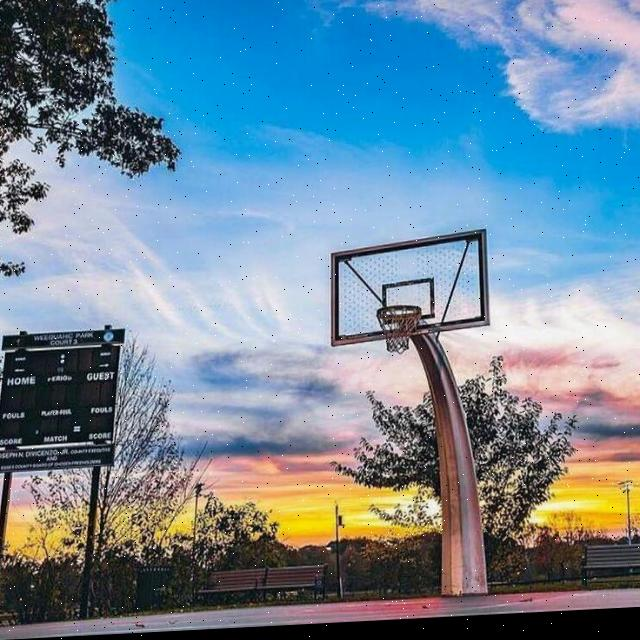hoop: (356, 292, 442, 364)
